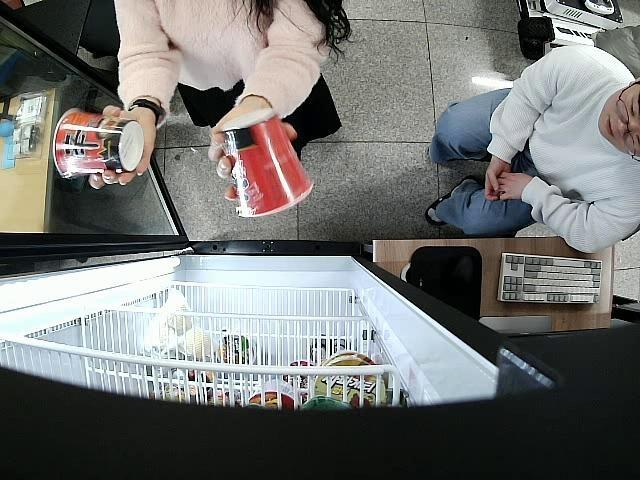02_shinRamen_S: (218, 107, 312, 220), (51, 108, 146, 182)
